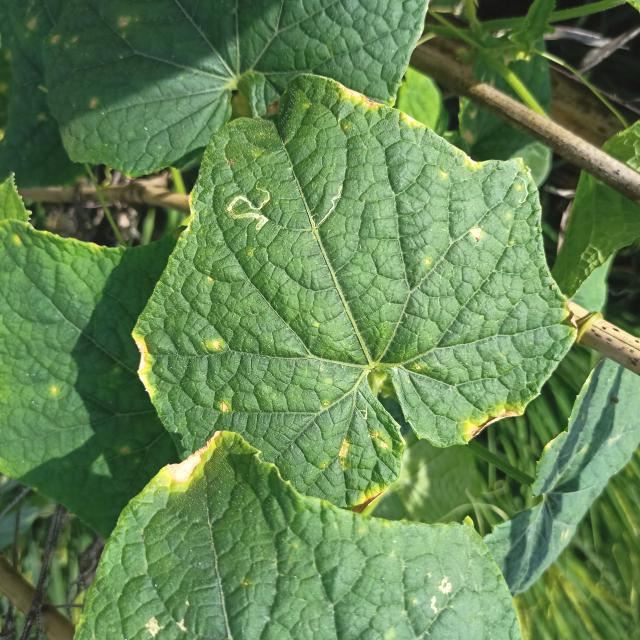disease_cucumber: (332, 422, 390, 511), (436, 153, 485, 185), (203, 335, 230, 355), (467, 225, 483, 242), (218, 397, 233, 414)
